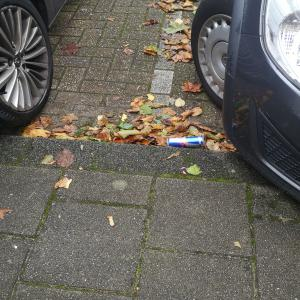Can: (165, 135, 210, 152)
